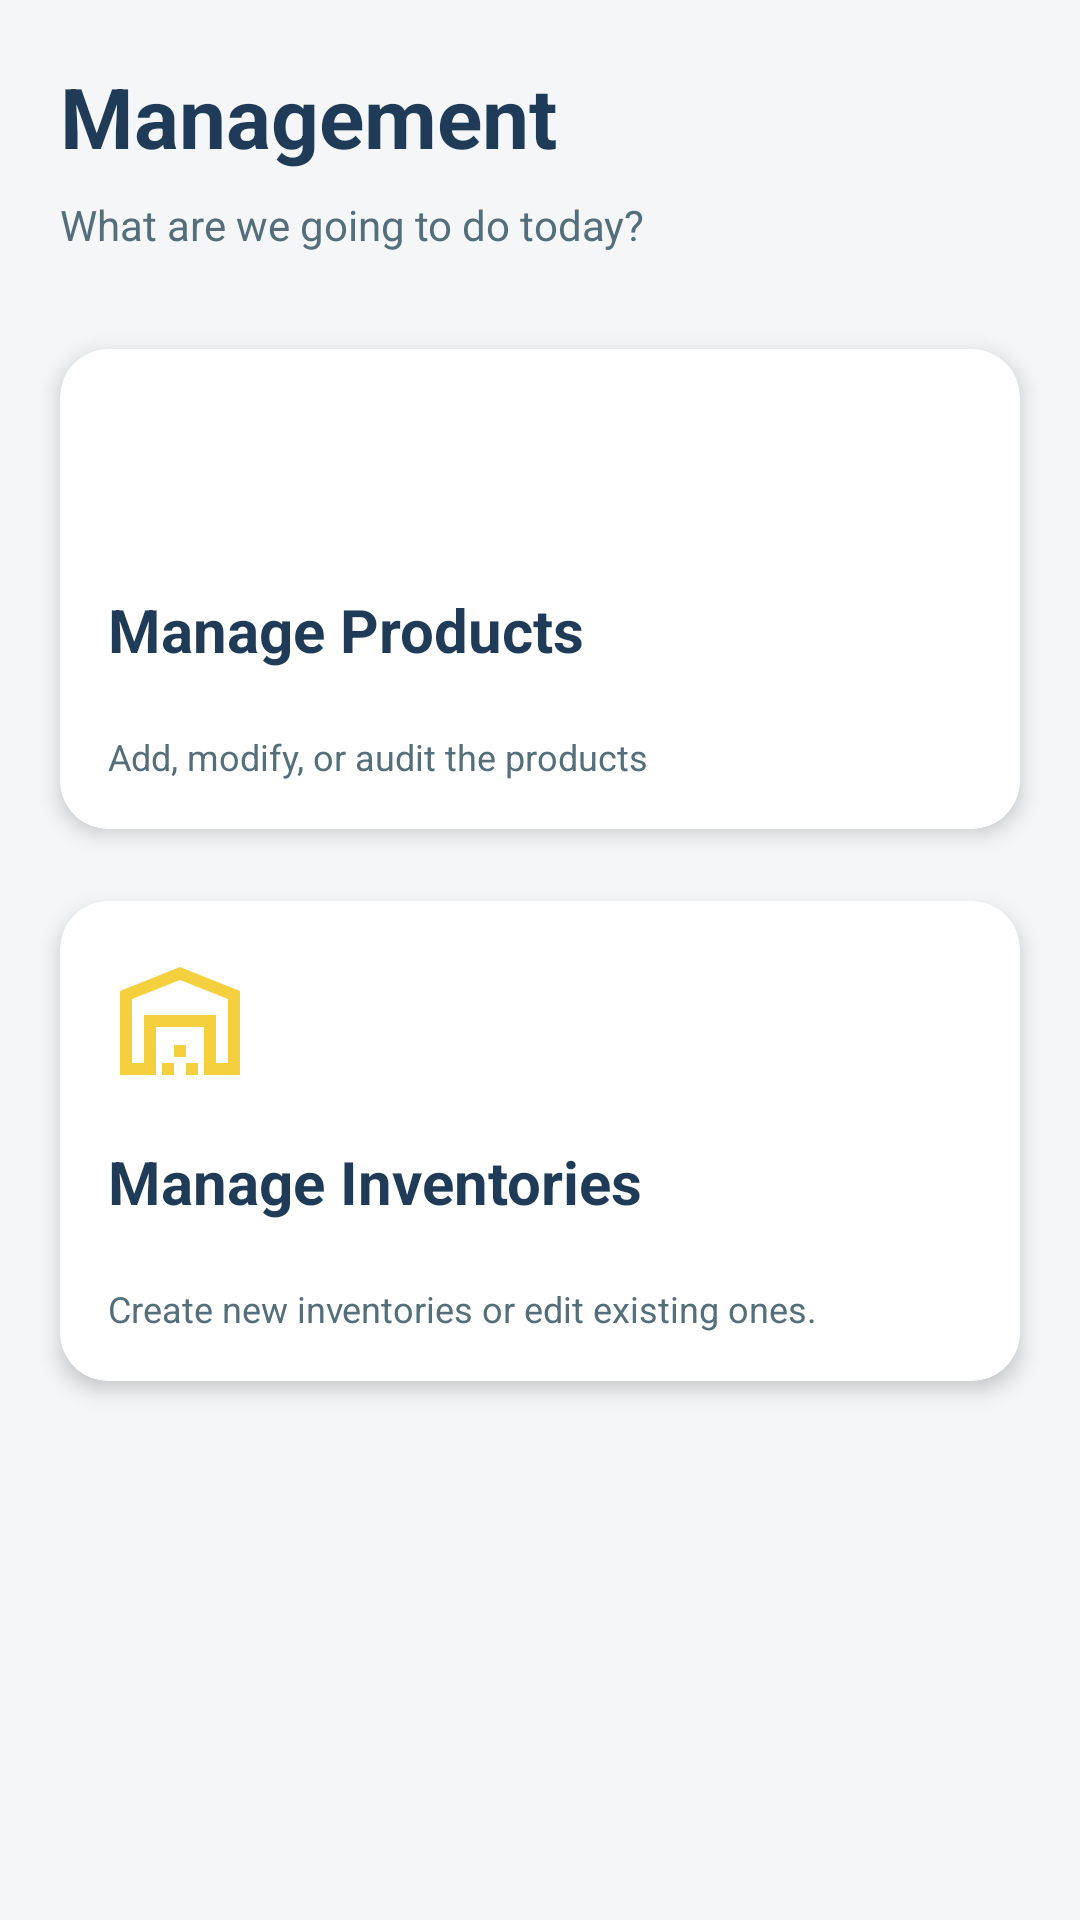

Icons on this 1080*1920 Android screen, each with its box as (x1, y1, x2, y2):
warehouse: (120, 967, 240, 1075)
